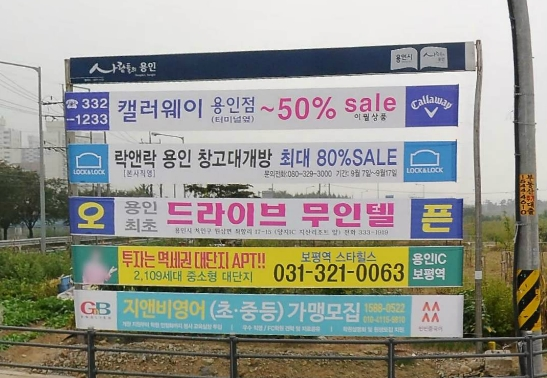banner: (59, 275, 493, 346), (46, 133, 495, 194), (61, 238, 494, 292), (59, 187, 496, 240), (52, 88, 492, 135)
